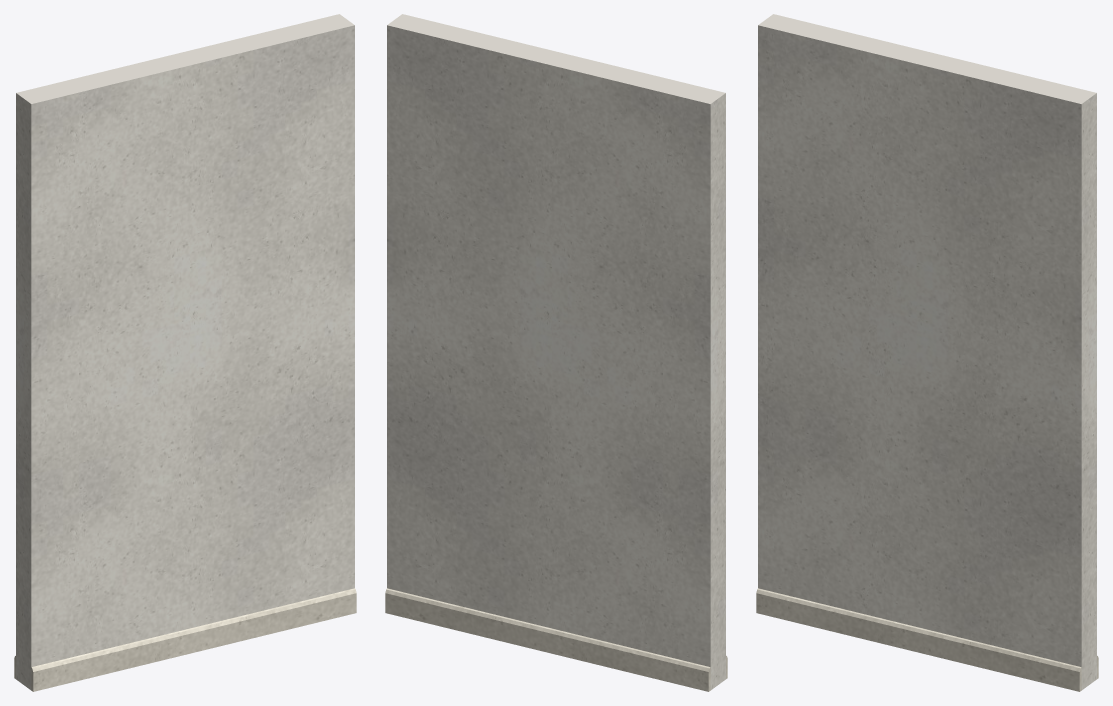
Rendered from iw0_end_plain.glb.
The picture shows the model from 3 angles, left to right: view 1: azimuth 30°, elevation 25°; view 2: azimuth 150°, elevation 25°; view 3: azimuth 330°, elevation 25°; orthographic projection.
Parts seen in each view (by area): view 1: iw0_end_plain_plaster, iw0_end_plain_trim; view 2: iw0_end_plain_plaster, iw0_end_plain_trim; view 3: iw0_end_plain_plaster, iw0_end_plain_trim.
Boxes of the visible parts, <box> form: iw0_end_plain_plaster: <box>16,14,354,690</box>; iw0_end_plain_trim: <box>14,588,356,691</box>; iw0_end_plain_plaster: <box>387,14,725,690</box>; iw0_end_plain_trim: <box>385,588,727,691</box>; iw0_end_plain_plaster: <box>758,14,1096,690</box>; iw0_end_plain_trim: <box>756,588,1098,691</box>.
Bounding box in the file's own units: 1.7 × 2.94 × 0.172.
Materials: 2 (2 with a texture image).
